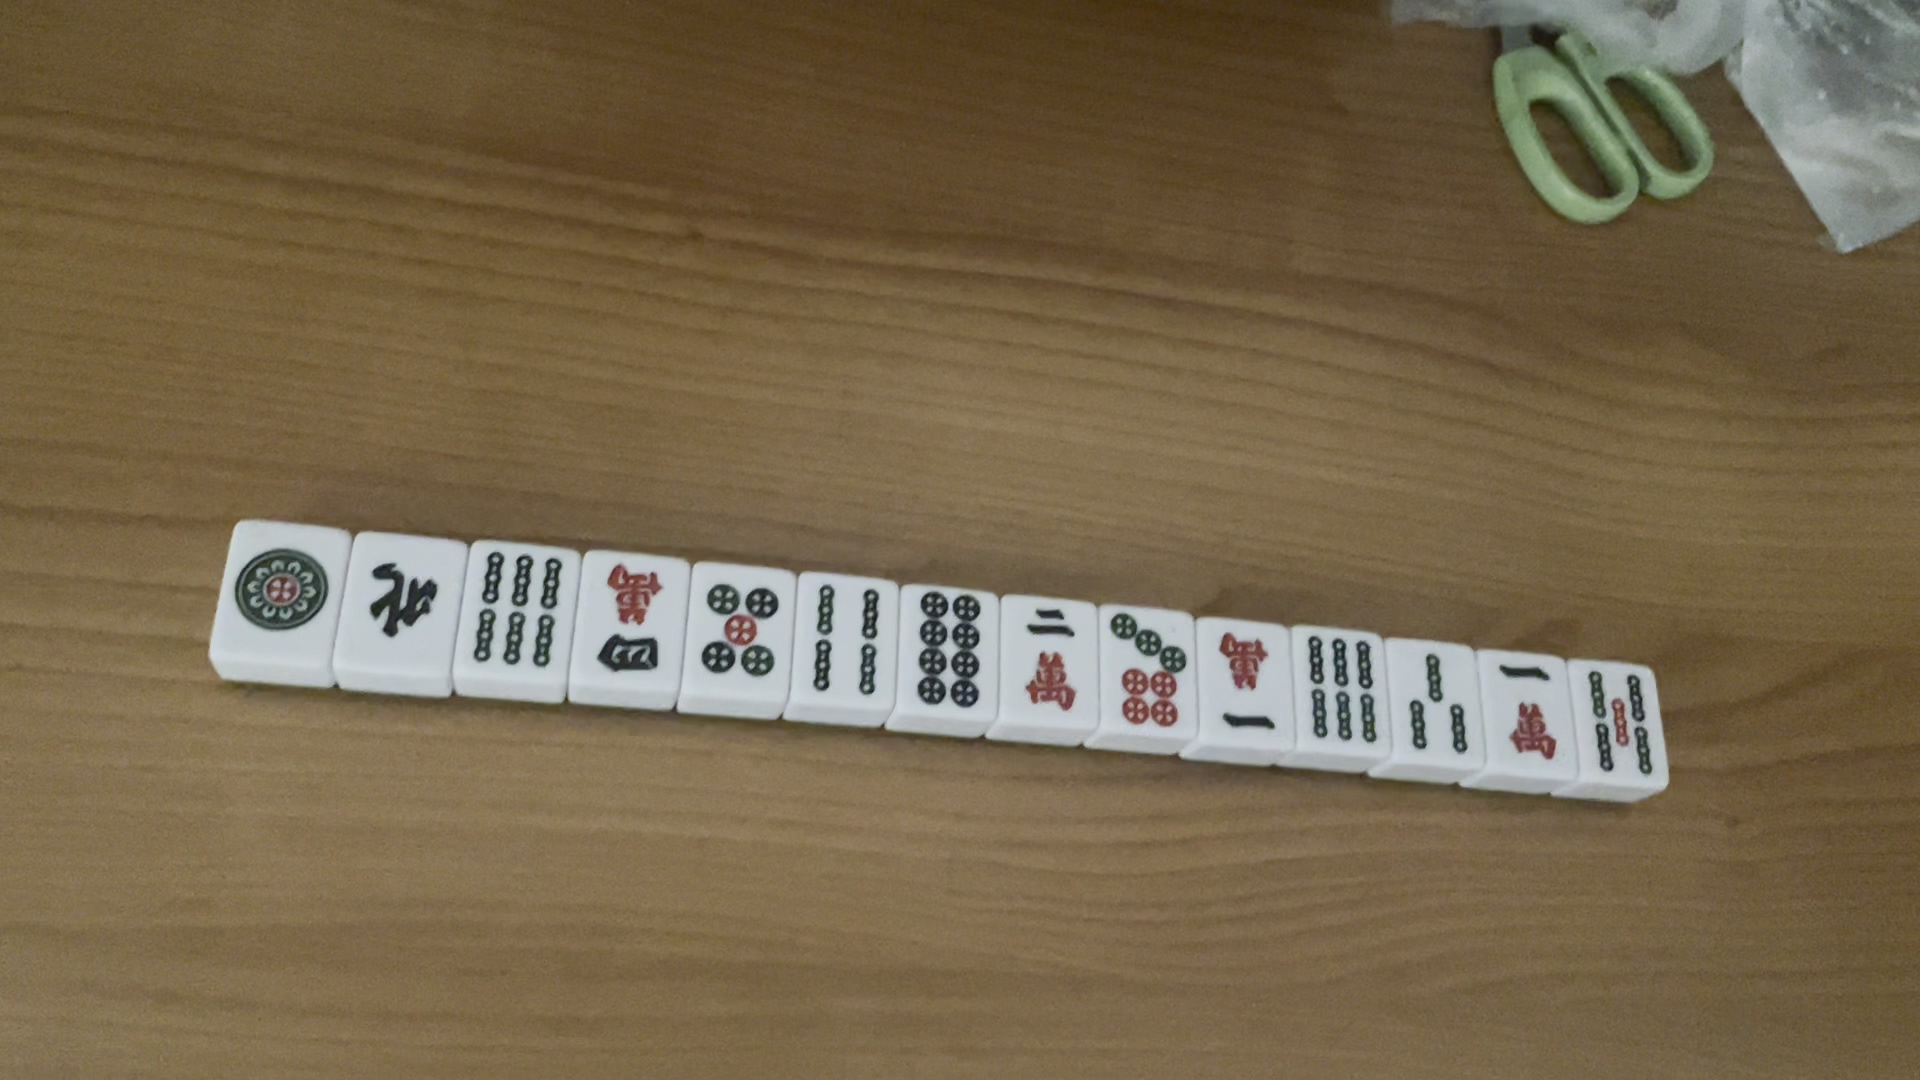b-3: (1396, 647, 1477, 760)
b-4: (800, 580, 889, 702)
b-5: (1581, 662, 1660, 779)
b-6: (464, 550, 571, 670), (1303, 633, 1383, 748)
c-1: (1207, 628, 1284, 738), (1495, 655, 1567, 770)
c-2: (1011, 596, 1087, 717)
c-4: (589, 556, 667, 676)
d-1: (228, 543, 331, 636)
d-5: (698, 580, 786, 684)
d-7: (1100, 615, 1199, 741)
d-8: (915, 589, 986, 709)
honors-north: (360, 556, 444, 644)
